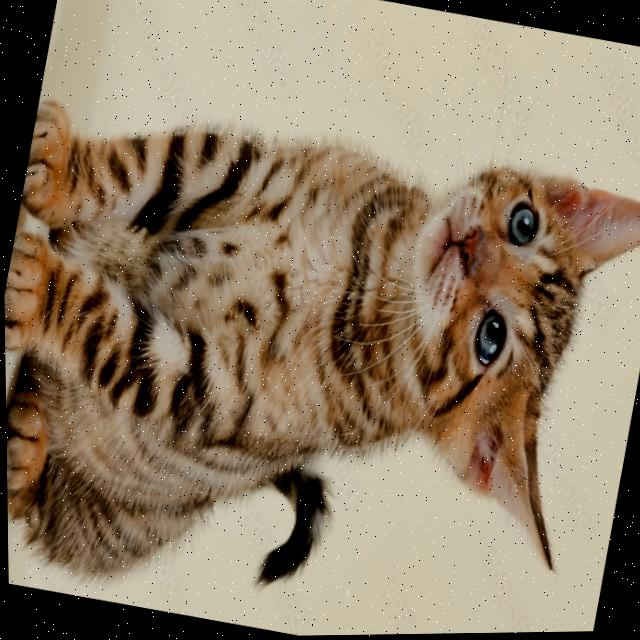Toyger: (1, 66, 640, 640)
